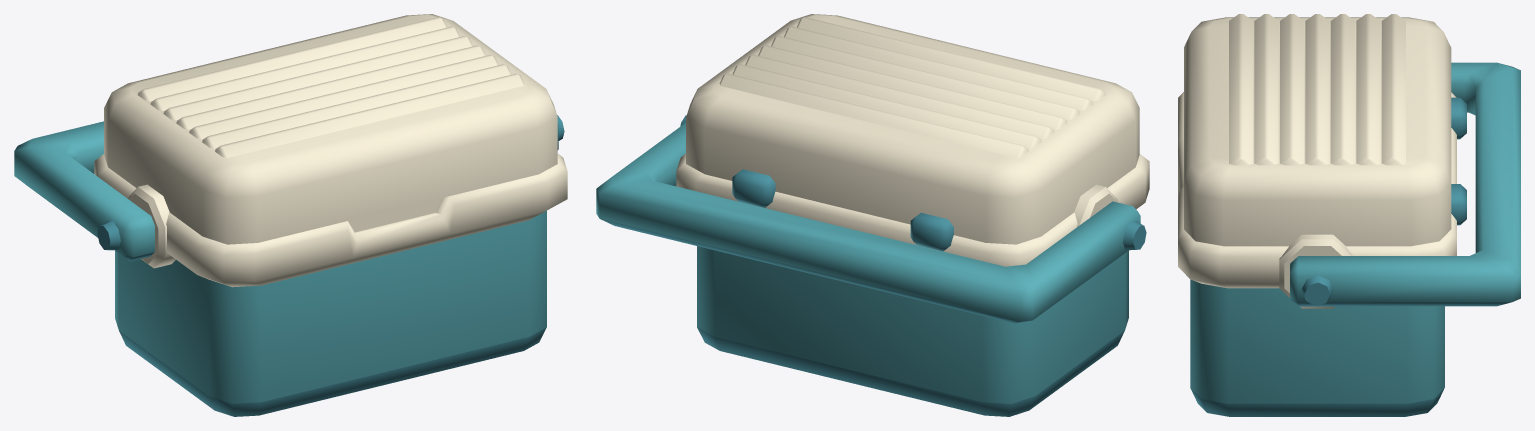
The model's file is itch_tiny_pleasant_picnic_cooler.glb.
3 renders of one model, left to right at view 1: azimuth 30°, elevation 25°; view 2: azimuth 150°, elevation 25°; view 3: azimuth 270°, elevation 25°, orthographic.
Visible parts, largest first — view 1: cooler, cooler_lid, cooler_handle; view 2: cooler_lid, cooler, cooler_handle; view 3: cooler_lid, cooler, cooler_handle.
Boxes of the visible parts, <box> form: cooler: <box>94,153,567,416</box>; cooler_lid: <box>104,14,557,244</box>; cooler_handle: <box>14,115,564,261</box>; cooler_lid: <box>686,14,1139,244</box>; cooler: <box>676,153,1149,416</box>; cooler_handle: <box>596,115,1146,323</box>; cooler_lid: <box>1184,14,1451,246</box>; cooler: <box>1178,92,1466,416</box>; cooler_handle: <box>1290,62,1520,306</box>.
Bounding box in the file's own units: 0.96 × 0.5325 × 0.6343.
